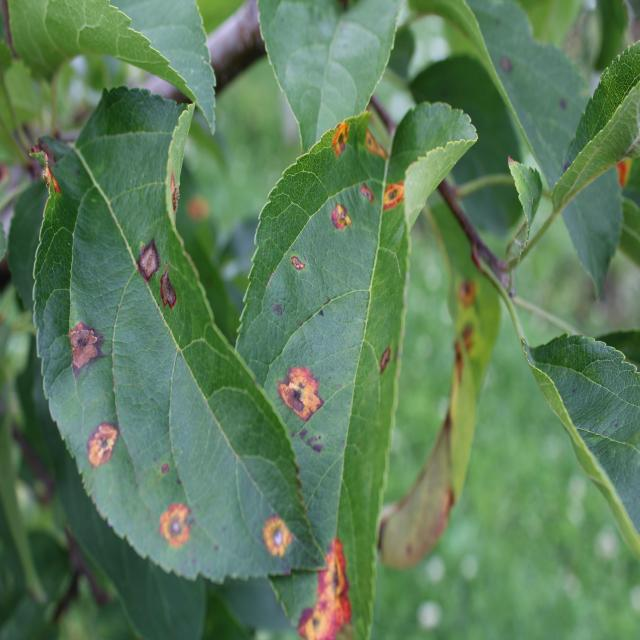Rust: (298, 531, 368, 640), (270, 350, 330, 428), (146, 497, 202, 552), (66, 321, 110, 382), (257, 504, 296, 567), (86, 419, 124, 475), (323, 196, 364, 237), (357, 112, 392, 160), (328, 108, 354, 167), (380, 174, 408, 226), (283, 245, 309, 286)
